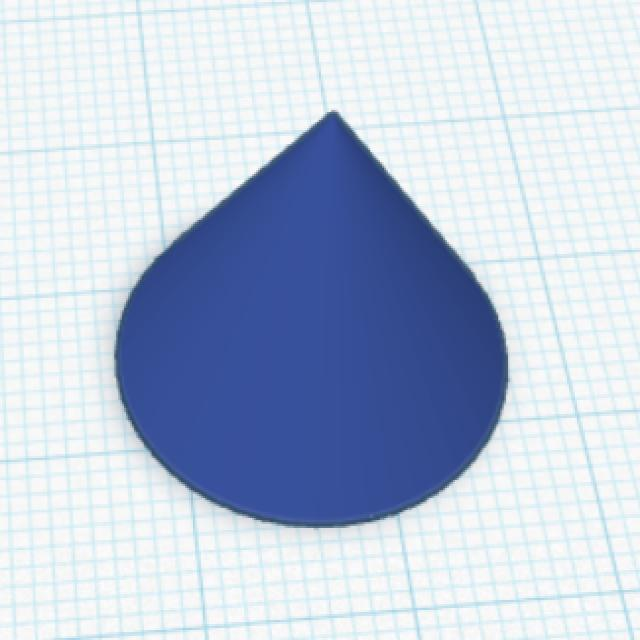cone: (108, 104, 514, 532)
